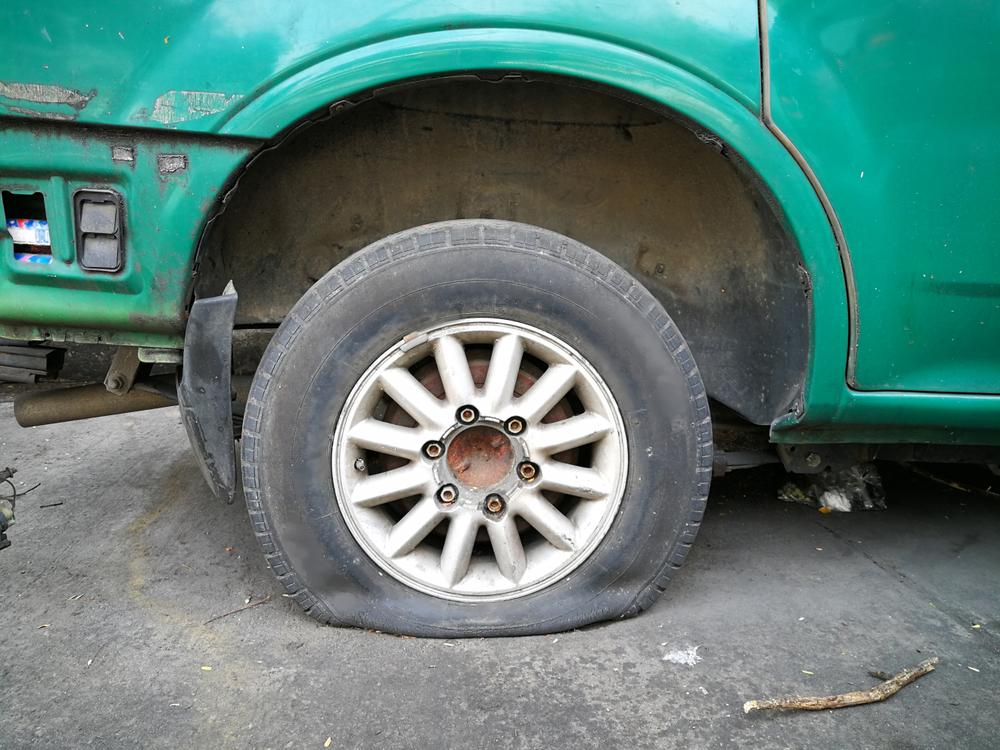tire flat: (238, 216, 714, 638)
